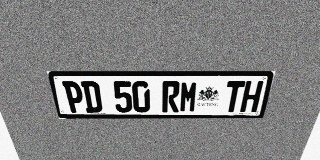0: (131, 81, 150, 112)
5: (113, 81, 133, 113)
D: (81, 81, 103, 113)
H: (240, 81, 264, 112)
M: (179, 81, 199, 112)
P: (62, 81, 86, 113)
R: (162, 81, 180, 112)
T: (223, 81, 245, 112)
